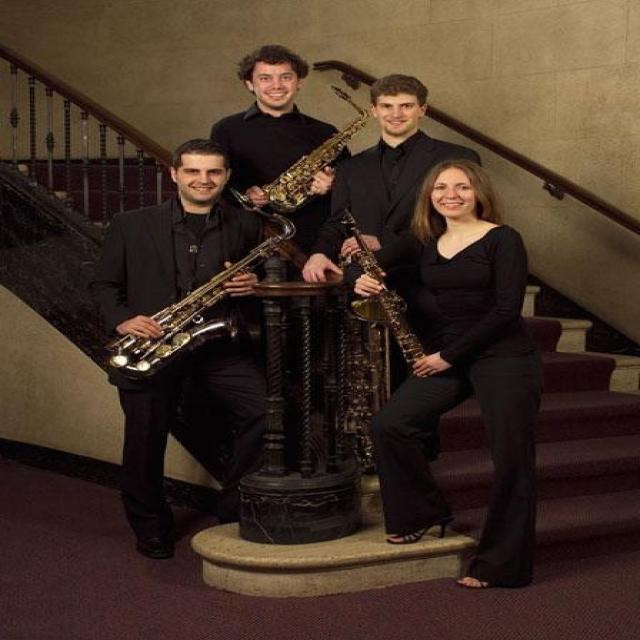saxophone: (98, 184, 301, 390), (325, 216, 437, 485), (260, 85, 372, 214)
